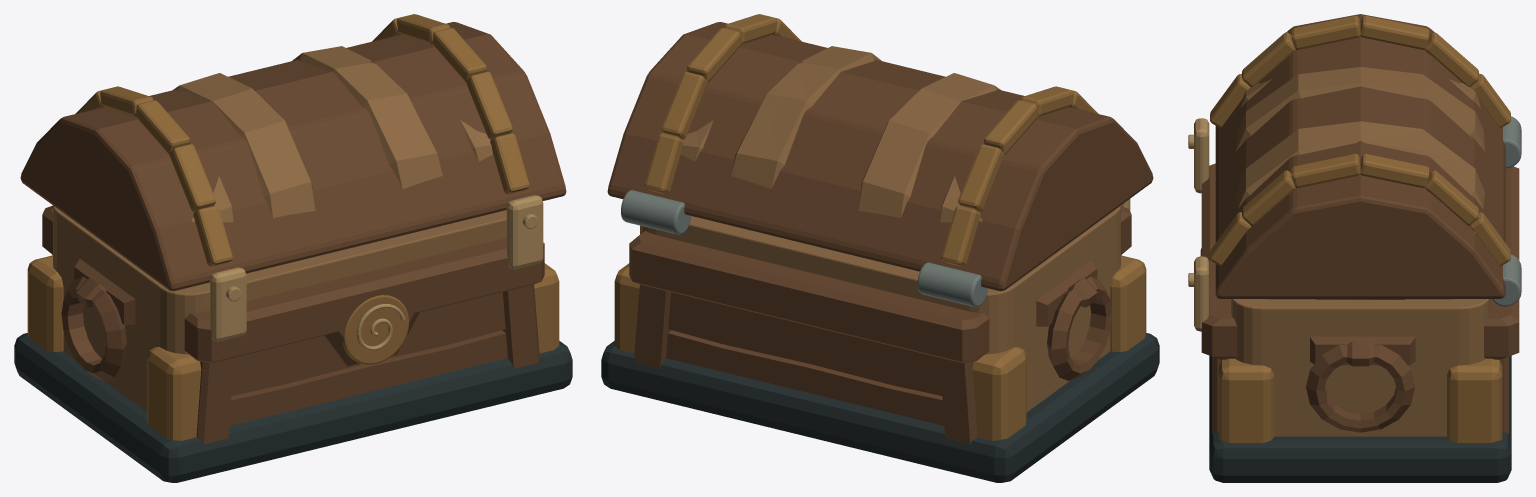
Rendered from FERNSTONE_CACHE.hi.glb.
3 renders of one model, left to right at view 1: azimuth 30°, elevation 25°; view 2: azimuth 150°, elevation 25°; view 3: azimuth 270°, elevation 25°, orthographic. The views are drawn at different scales.
Parts seen in each view (by area): view 1: Body_Mesh, LidPivot_Mesh; view 2: Body_Mesh, LidPivot_Mesh; view 3: LidPivot_Mesh, Body_Mesh.
Part boxes in pixels (<box>): Body_Mesh: <box>14,195,572,482</box>; LidPivot_Mesh: <box>20,14,566,291</box>; Body_Mesh: <box>601,190,1159,482</box>; LidPivot_Mesh: <box>607,14,1153,291</box>; LidPivot_Mesh: <box>1210,14,1510,298</box>; Body_Mesh: <box>1188,116,1521,482</box>.
Bounding box in the file's own units: 1.52 × 1.09 × 1.08.
